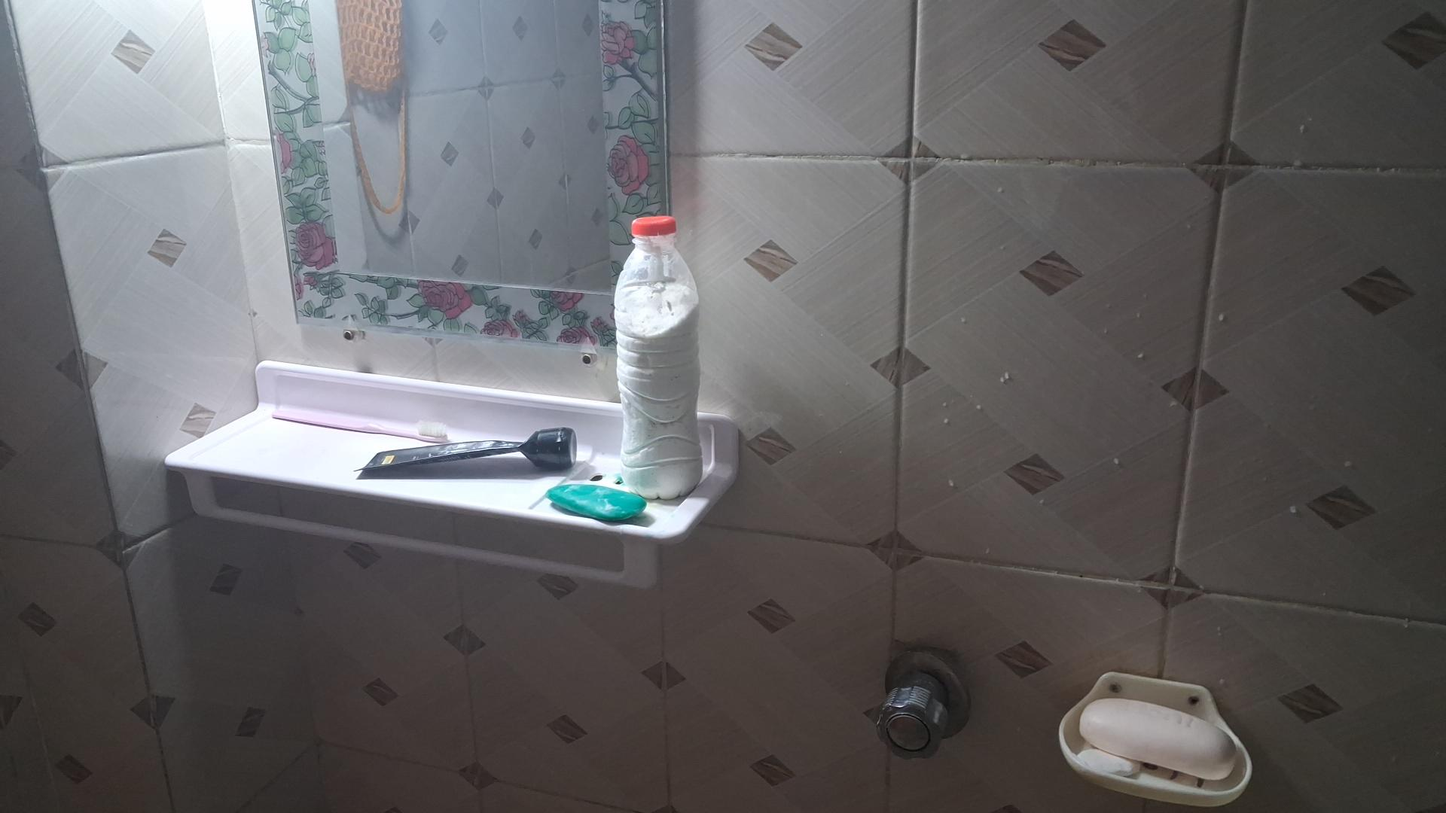Bottle: (614, 215, 703, 504)
Soap: (1082, 691, 1235, 795), (544, 477, 652, 524)
